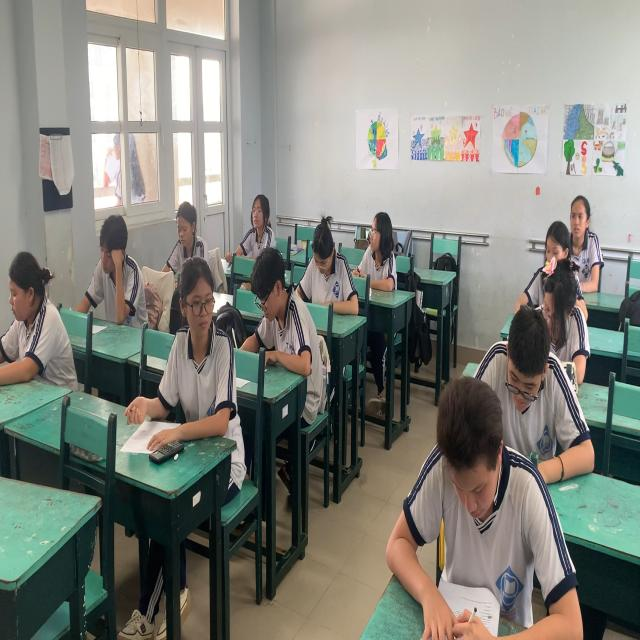cheating: (164, 257, 235, 433)
not_cheating: (388, 381, 558, 637), (482, 305, 586, 485), (242, 240, 310, 385), (1, 251, 60, 381), (530, 267, 593, 375), (85, 195, 139, 316), (299, 215, 359, 312), (351, 192, 402, 284), (562, 192, 602, 295), (165, 192, 207, 260), (232, 182, 272, 247), (532, 216, 567, 272)
